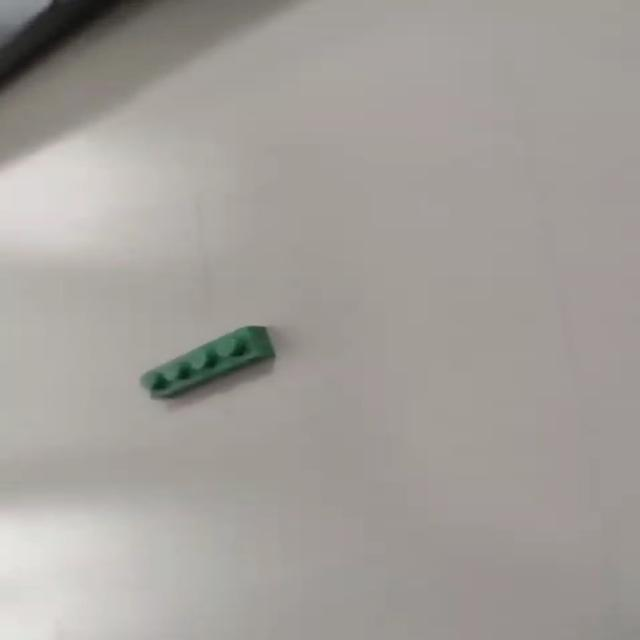C4x1x0: (132, 323, 278, 403)
